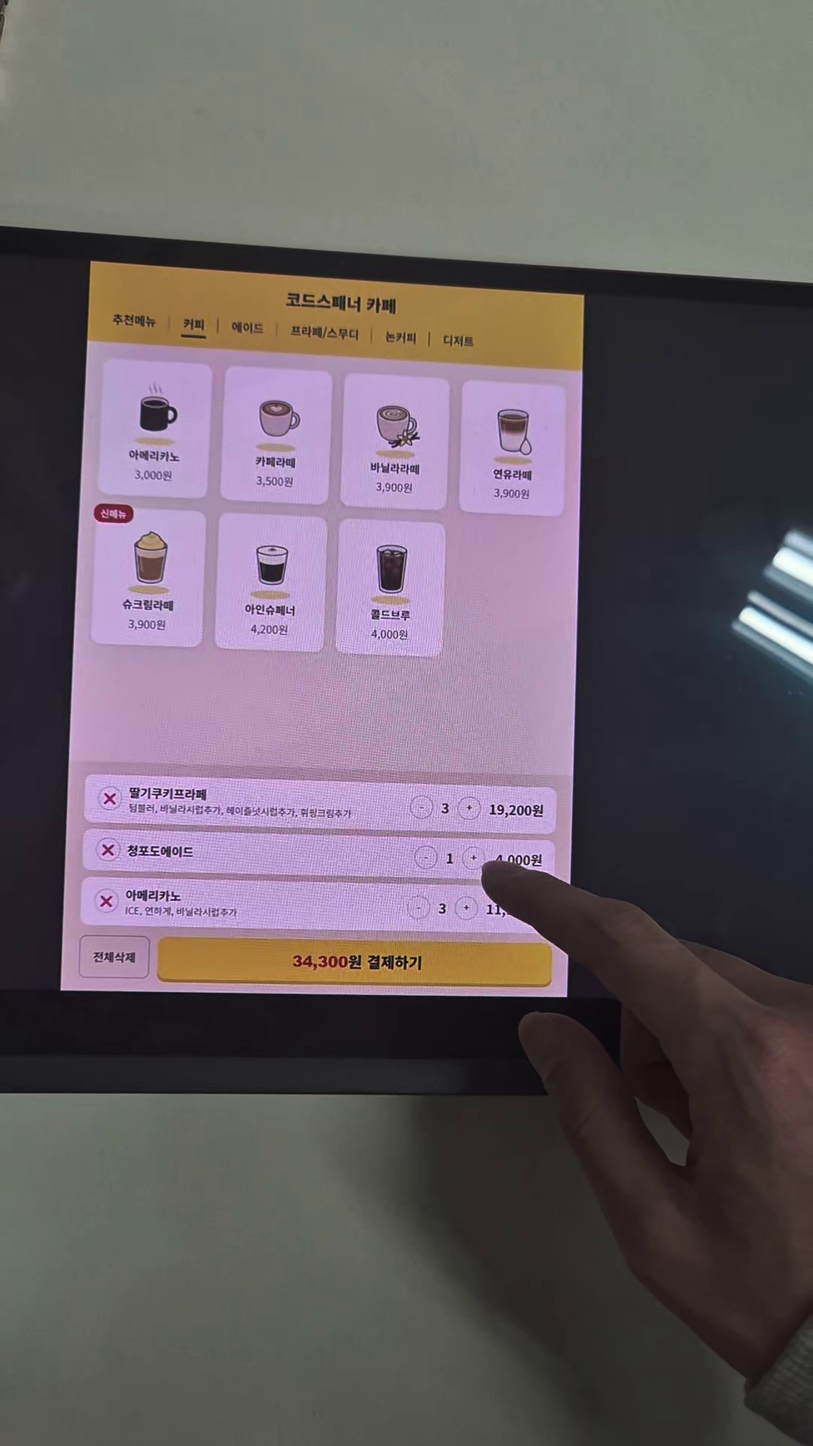action_button: (157, 937, 551, 988), (79, 936, 149, 978)
cart_item: (84, 774, 557, 835), (80, 878, 551, 934), (83, 828, 554, 883)
category_tab: (288, 323, 362, 342), (110, 311, 160, 330), (382, 328, 420, 348), (230, 319, 265, 336), (441, 333, 476, 349), (180, 315, 208, 333)
menu_back: (89, 504, 207, 648), (98, 359, 213, 499), (214, 514, 328, 652), (220, 366, 332, 505), (335, 520, 446, 657), (340, 374, 450, 510), (459, 380, 567, 516)
menu_name: (366, 459, 423, 479), (127, 448, 182, 467), (242, 601, 297, 620), (119, 596, 175, 614), (253, 453, 298, 471), (368, 606, 411, 624), (490, 467, 535, 483)
menu_price: (253, 473, 298, 491), (131, 467, 174, 484), (373, 480, 415, 495), (249, 623, 290, 637), (127, 618, 167, 632), (493, 487, 531, 501), (370, 628, 409, 641)
